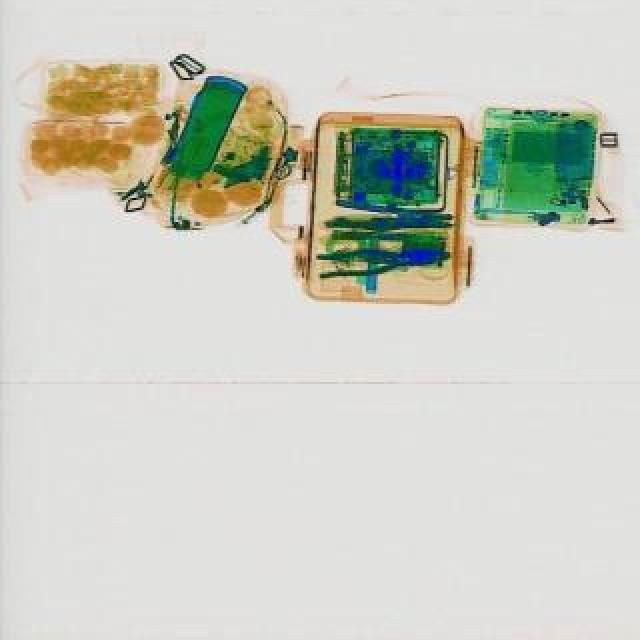wrench: (316, 246, 450, 284)
